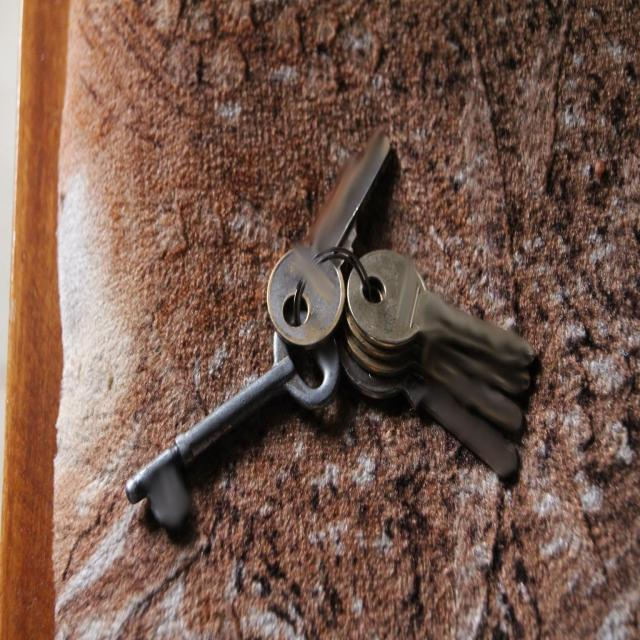Frontdoor keys: (329, 245, 544, 498), (115, 308, 338, 543), (266, 123, 396, 345)
